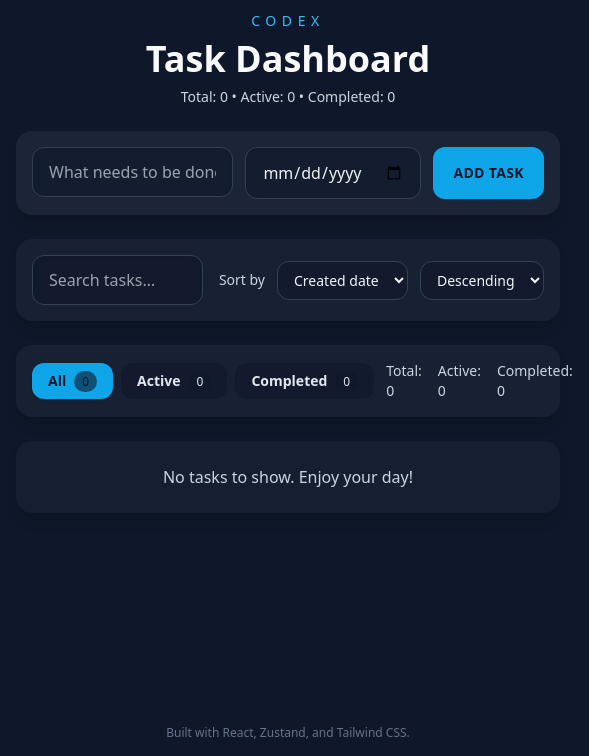
App task flow › allows adding, toggling, and deleting a task
The width and height of the screenshot is (589, 756).
Type "Test Task" into the field labelled "What needs to be done?". click: (133, 172)
box: [32, 147, 233, 197]
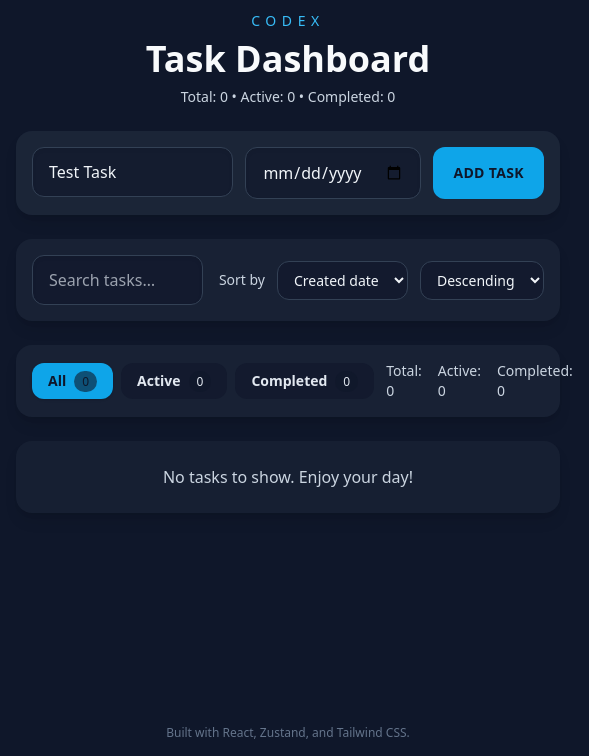
Click the button "Add task". click: click(489, 173)
box: [433, 147, 544, 199]
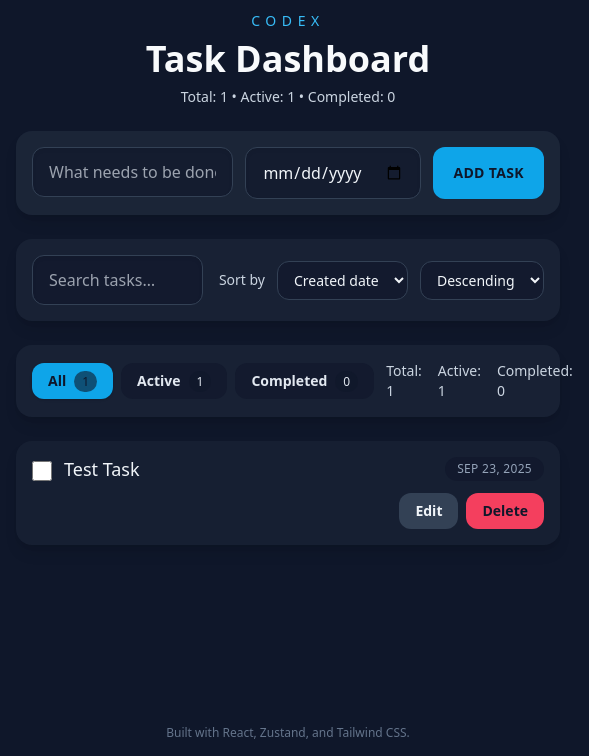
Expected: the checkbox labelled "Test Task" is not checked
Click the checkbox labelled "Test Task". click: click(42, 471)
box: [32, 461, 52, 481]
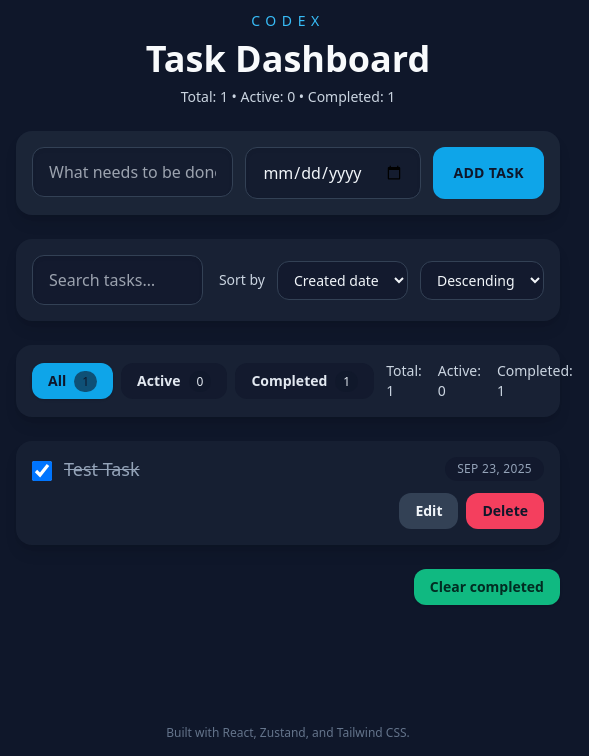
Expected: the checkbox labelled "Test Task" is checked, [32, 461, 52, 481]
Click the button with aria-label "Delete Test Task". click: click(505, 511)
box: [466, 493, 544, 529]
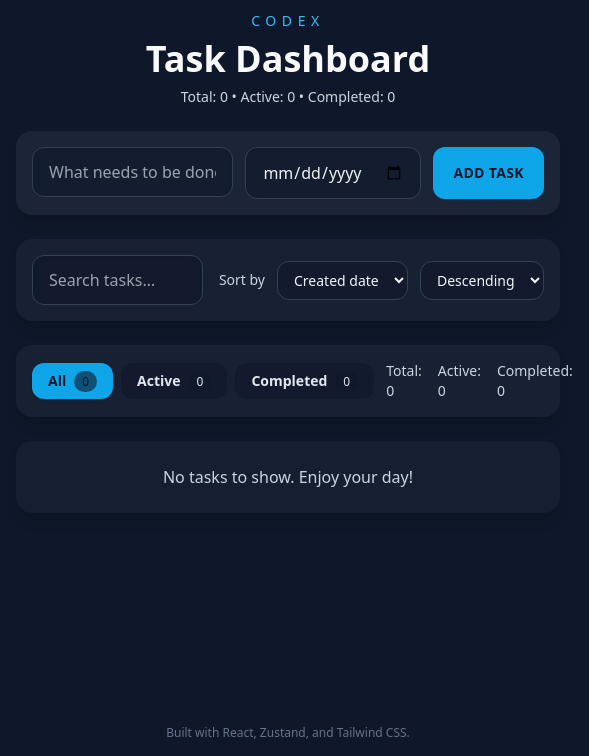
Expected: the text "Test Task" is gone
